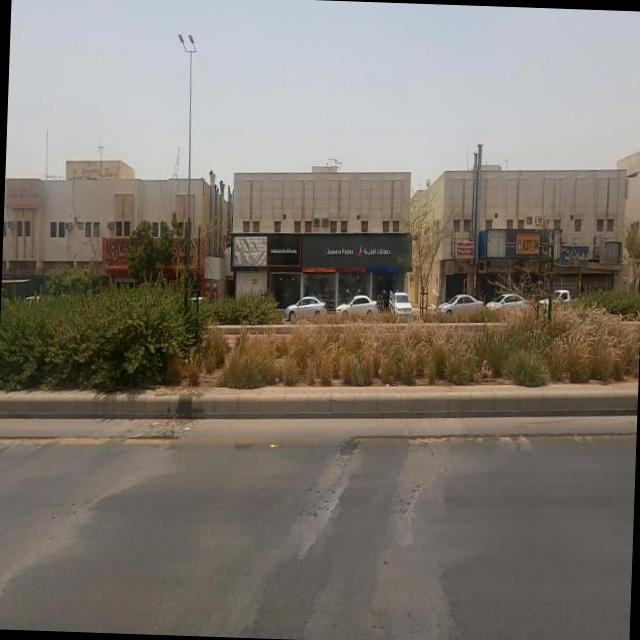debris: (200, 185, 296, 308), (560, 207, 640, 305), (466, 185, 527, 298)
